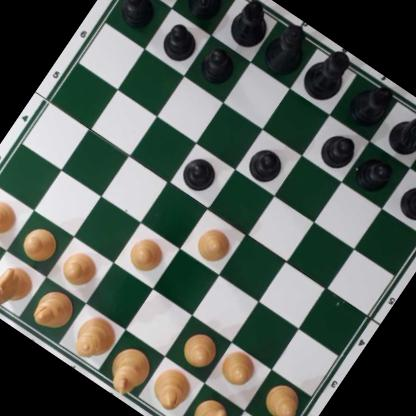black-bishop: (343, 73, 400, 133), (224, 0, 280, 53)
black-king: (297, 39, 360, 109)
black-knight: (383, 98, 416, 162), (179, 0, 238, 26)
black-pawn: (244, 140, 291, 188), (157, 18, 203, 66), (352, 150, 398, 196), (315, 128, 360, 174), (196, 42, 240, 88), (177, 151, 221, 196), (114, 0, 162, 33), (394, 177, 416, 227)
black-queen: (259, 18, 318, 80)
white-bishop: (145, 362, 198, 416), (28, 283, 79, 336)
white-king: (101, 341, 156, 400)
white-knight: (0, 260, 39, 319), (179, 392, 234, 416)
white-pawn: (123, 230, 171, 278), (56, 244, 103, 292), (190, 221, 237, 268), (177, 326, 223, 372), (216, 345, 261, 392), (18, 221, 63, 266), (259, 378, 307, 416), (0, 191, 24, 241)
white-queen: (65, 307, 125, 368)
white-rook: (0, 226, 0, 287)
